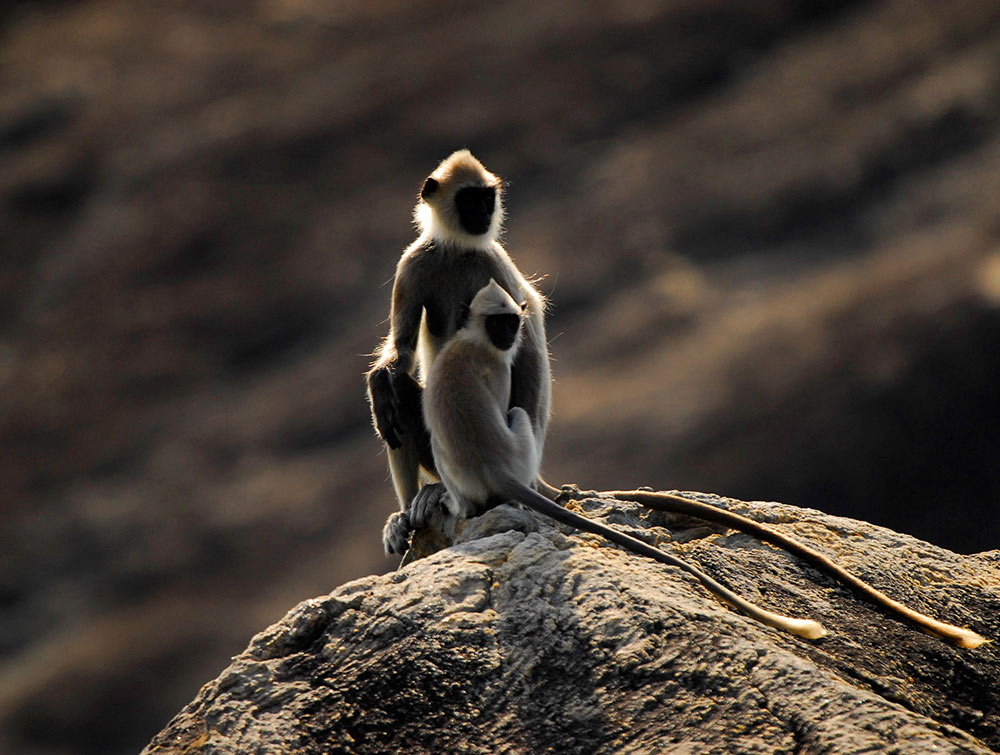Monkey: (347, 121, 595, 577)
